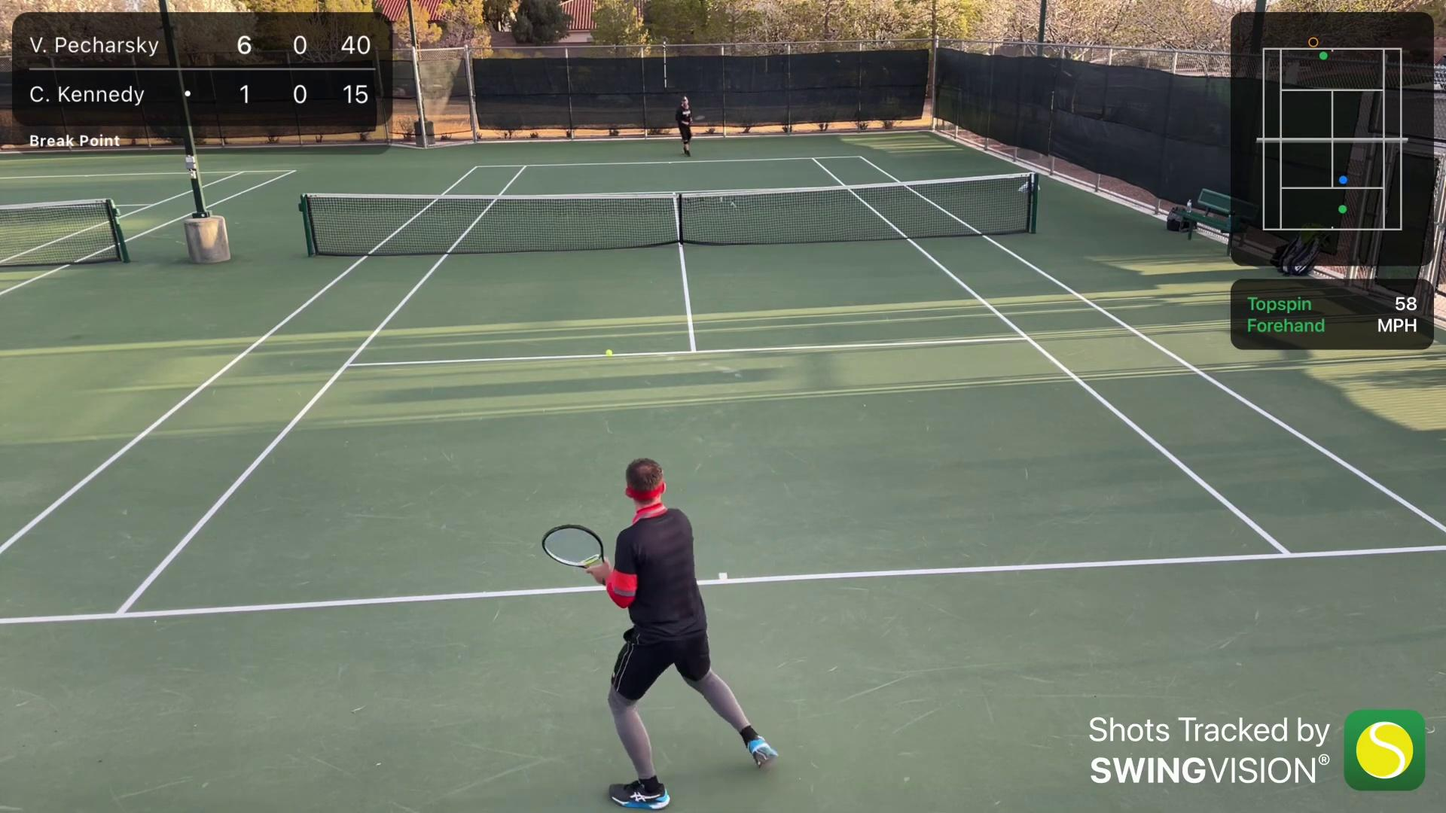ball: (604, 349, 614, 359)
